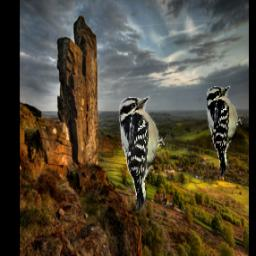Woodpecker: (117, 93, 171, 213), (206, 84, 248, 177)
